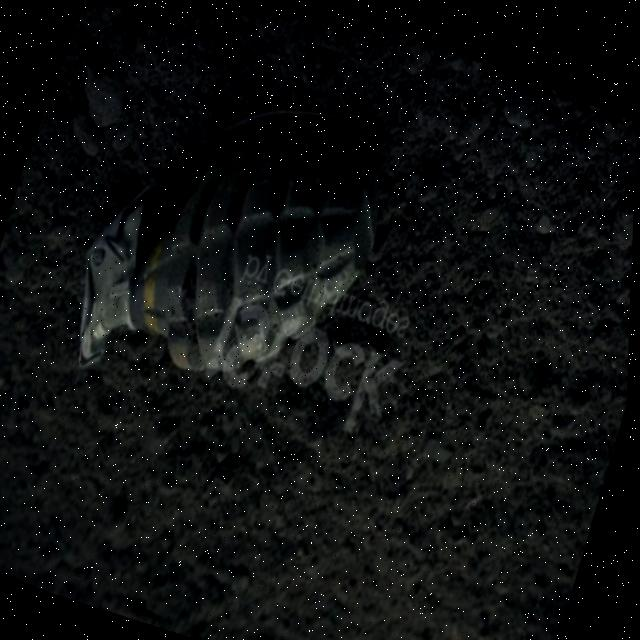grenade: (43, 23, 420, 456)
